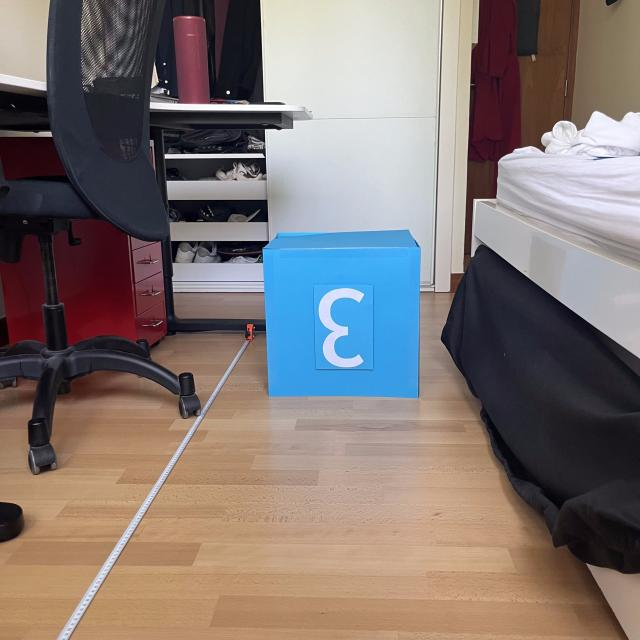box: (258, 224, 424, 401)
